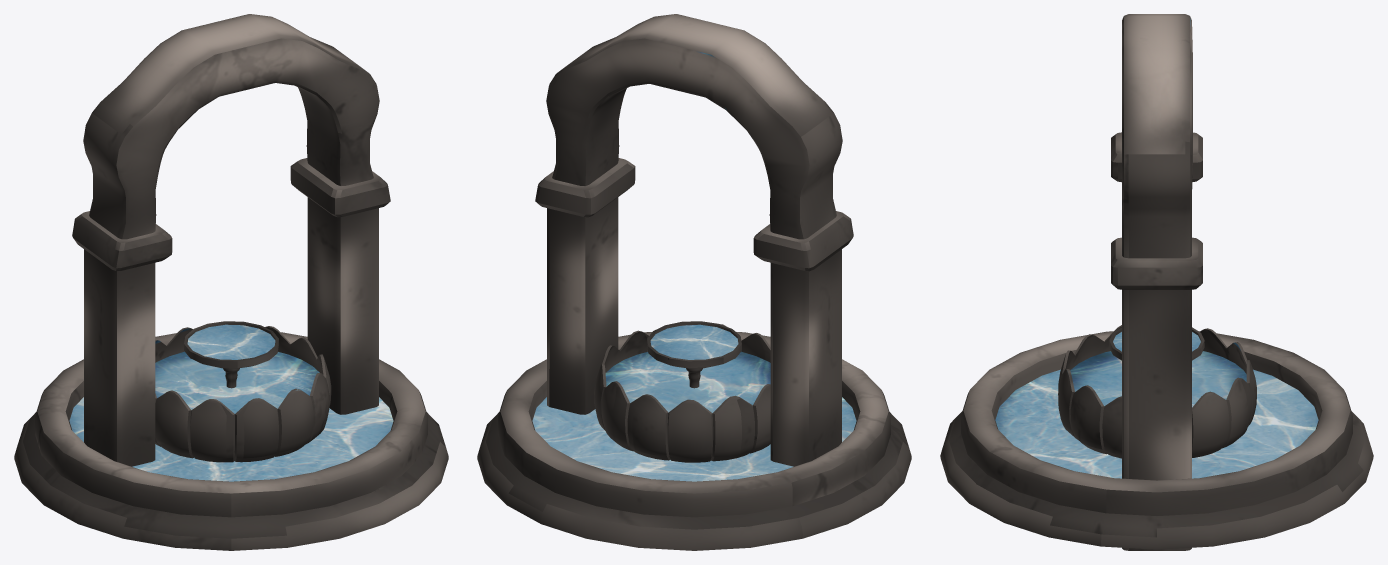
The model's file is PirateFountain.fbx.
The picture shows the model from 3 angles, left to right: view 1: azimuth 30°, elevation 25°; view 2: azimuth 150°, elevation 25°; view 3: azimuth 270°, elevation 25°; orthographic projection.
Parts seen in each view (by area): view 1: WaterPlaceHolder; view 2: WaterPlaceHolder; view 3: WaterPlaceHolder.
Boxes of the visible parts, left/top/right/bottom form: WaterPlaceHolder: left=14, top=14, right=448, bottom=550; WaterPlaceHolder: left=477, top=14, right=911, bottom=550; WaterPlaceHolder: left=940, top=14, right=1373, bottom=550.
Bounding box in the file's own units: 221 × 255 × 221.
Materials: 1 (1 with a texture image).
